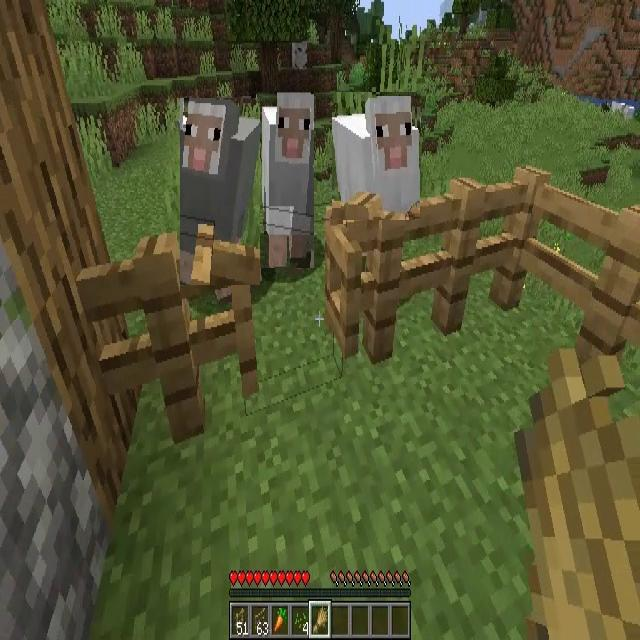sheep: (180, 98, 260, 285), (332, 92, 420, 220), (257, 92, 314, 268)
